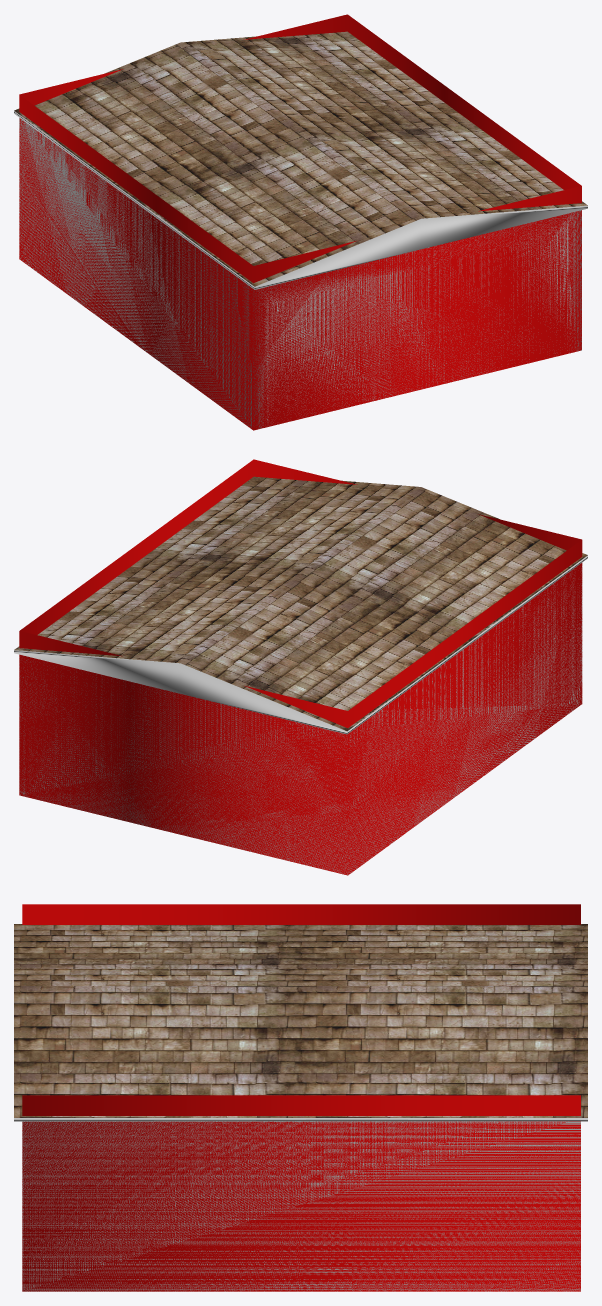
Rendered from bauernhof_geraeteschuppen_01.fbx.
3 renders of one model, top to bottom at view 1: azimuth 30°, elevation 25°; view 2: azimuth 150°, elevation 25°; view 3: azimuth 270°, elevation 25°, orthographic. The views are drawn at different scales.
Parts seen in each view (by area): view 1: bauernhof_geraeteschuppen, colmesh; view 2: bauernhof_geraeteschuppen, colmesh; view 3: bauernhof_geraeteschuppen, colmesh.
Part boxes in pixels (x1,y1,x2,y2): bauernhof_geraeteschuppen: (14,31,587,428); colmesh: (19,14,581,430); bauernhof_geraeteschuppen: (14,476,587,875); colmesh: (19,459,582,875); bauernhof_geraeteschuppen: (14,924,587,1291); colmesh: (22,904,580,1291).
Bounding box in the file's own units: 675 × 337 × 844.
